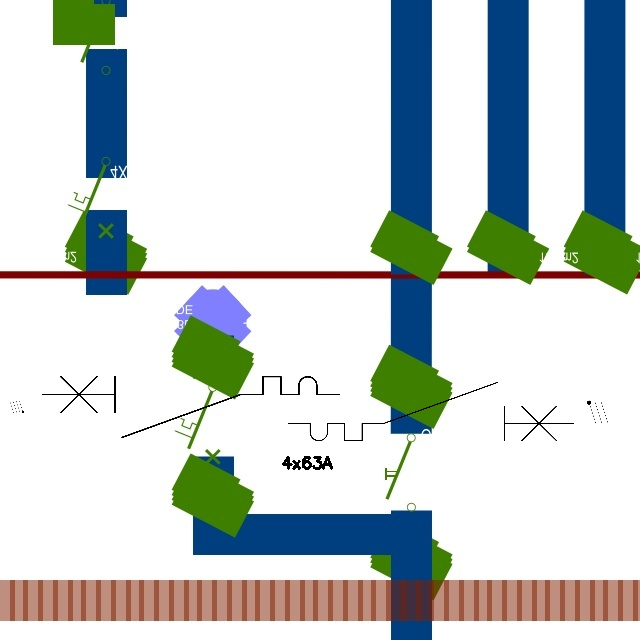interruptor_termomagnetico: (35, 369, 346, 445), (281, 375, 581, 448)
